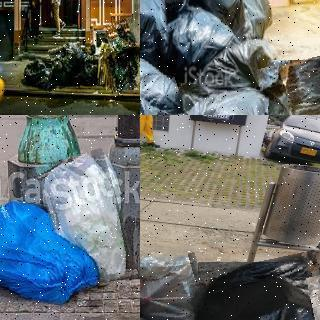Garbage: (44, 151, 130, 289), (0, 197, 89, 303), (192, 256, 320, 320), (140, 246, 209, 320), (261, 57, 320, 115), (140, 35, 180, 115), (167, 85, 267, 115), (173, 84, 267, 115), (50, 40, 88, 88), (105, 18, 140, 64), (104, 47, 140, 91), (19, 53, 60, 91)
